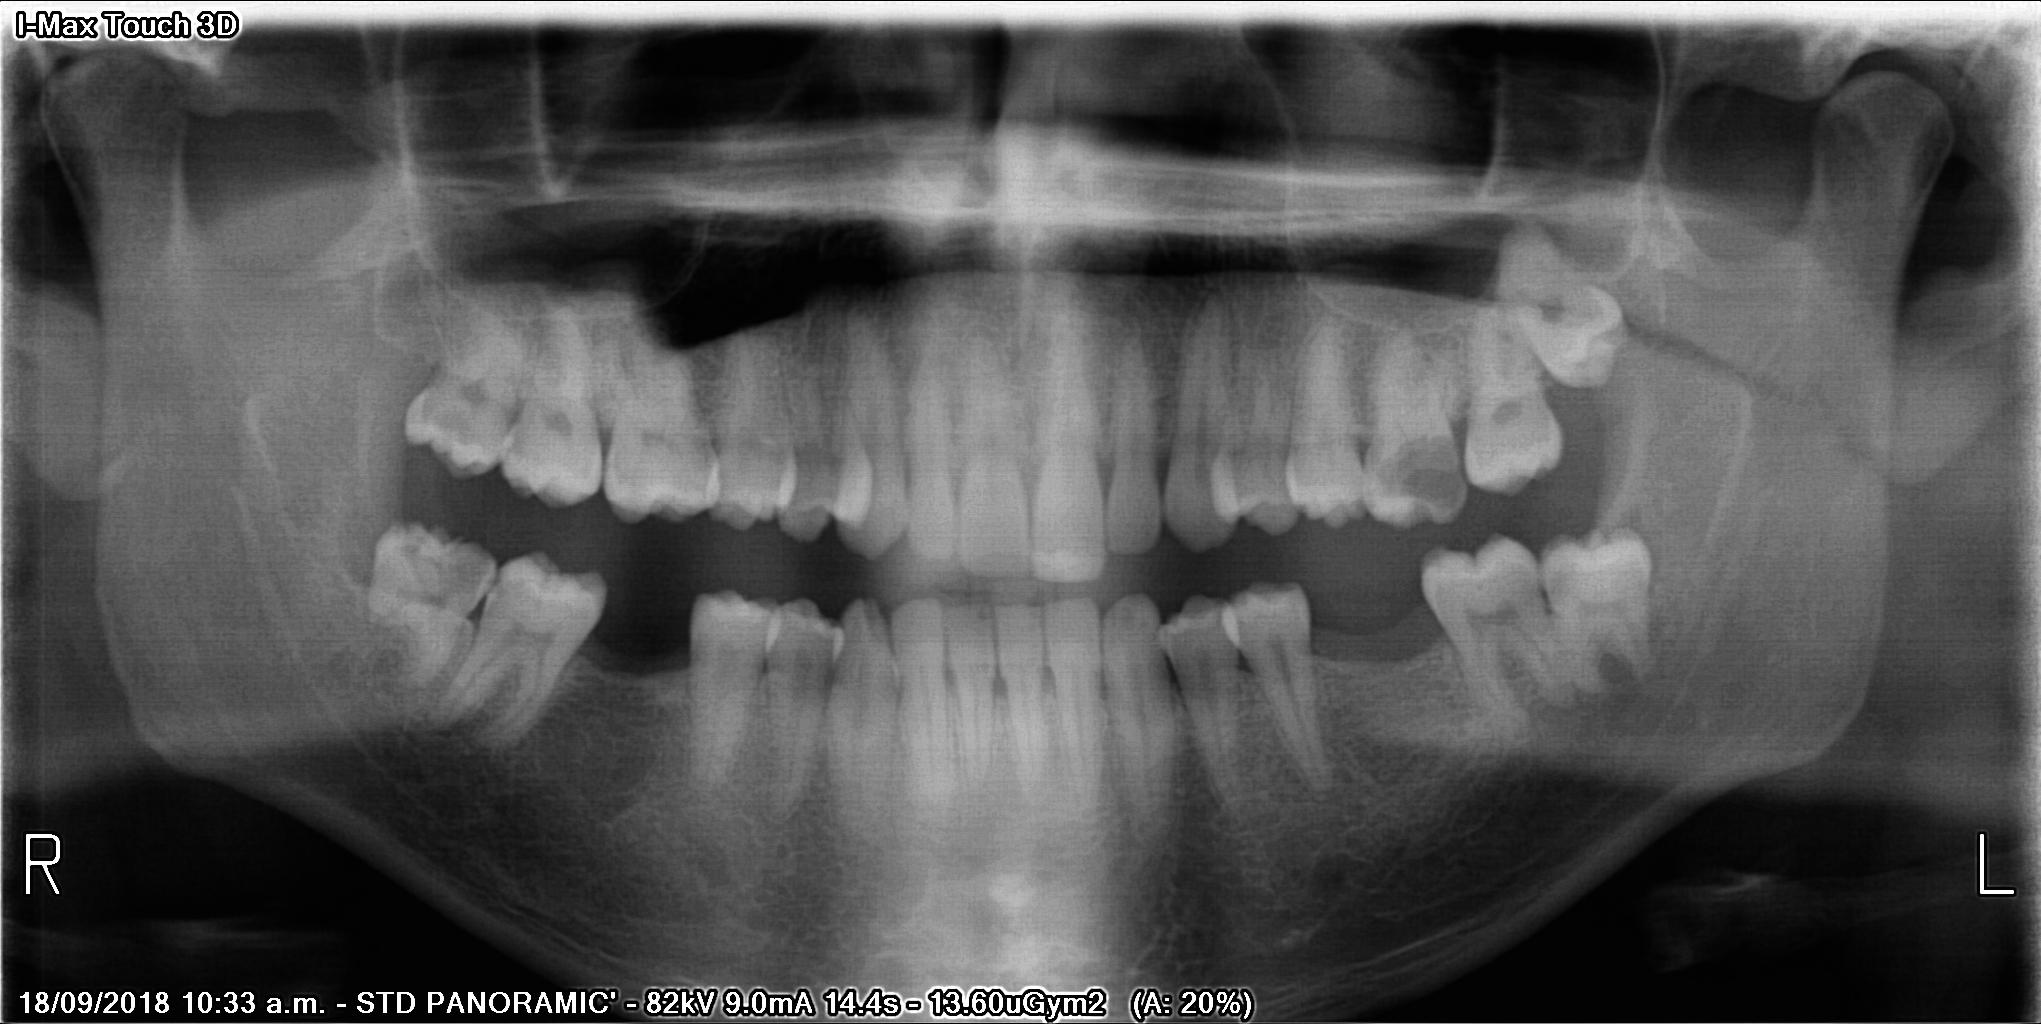Çürük Bölgesi: (1379, 438, 1459, 513), (410, 532, 487, 600), (427, 404, 492, 472), (504, 422, 537, 461)
